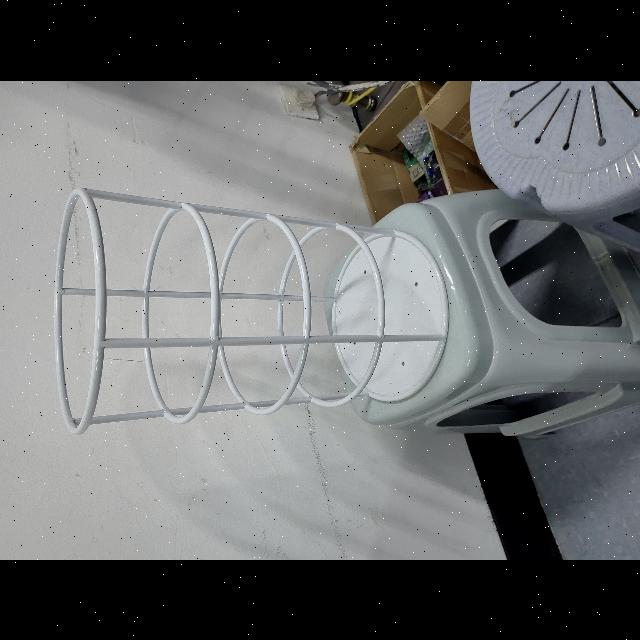S: (50, 183, 454, 439)
